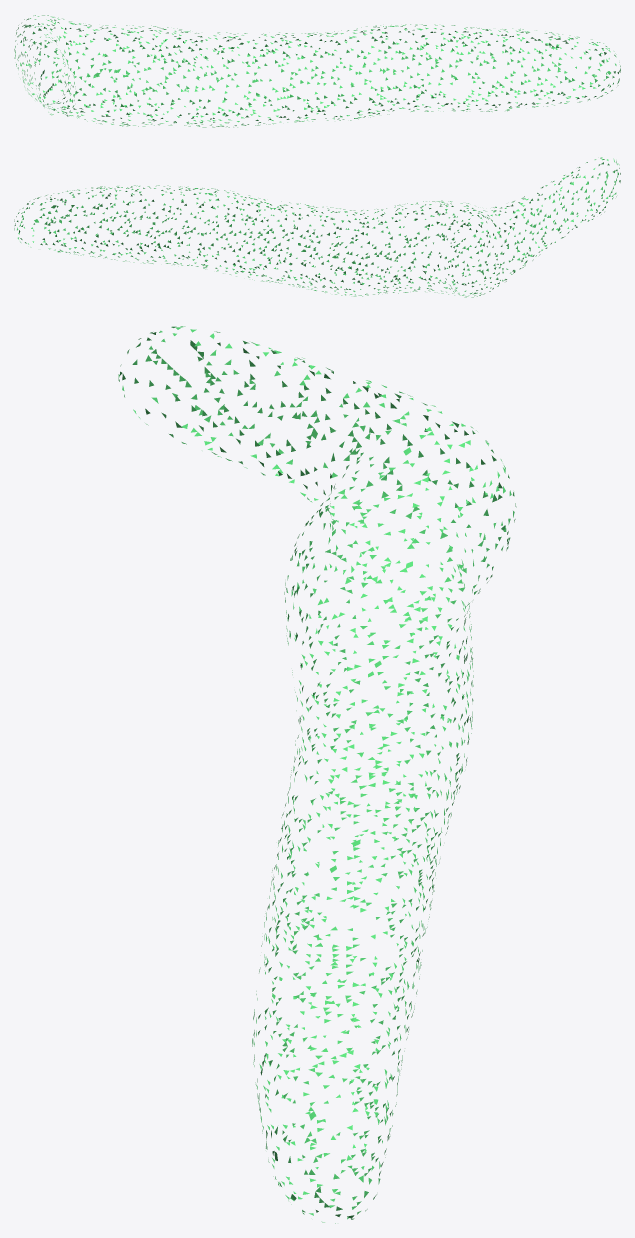
The model's file is morph_020.glb.
3 views of the same model, one above another, from view 1: azimuth 30°, elevation 25°; view 2: azimuth 150°, elevation 25°; view 3: azimuth 270°, elevation 25° (orthographic). The views are drawn at different scales.
Size of the model in its own units: 129 by 41.95 by 40.05.
